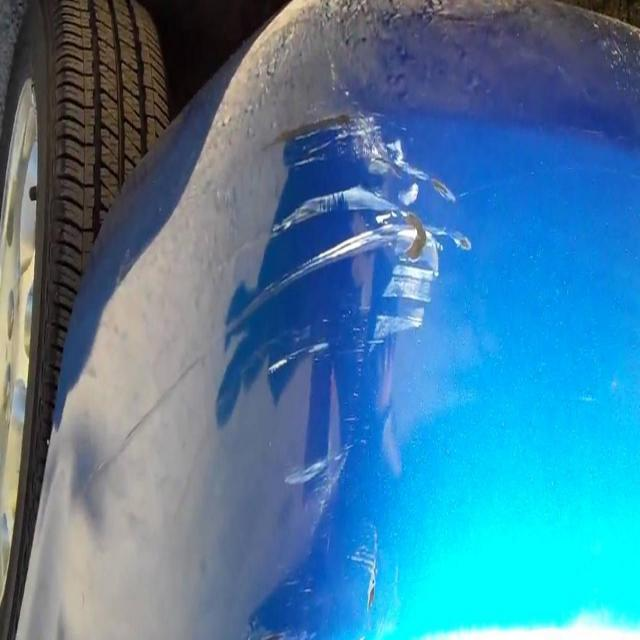scratch: (220, 86, 491, 532)
